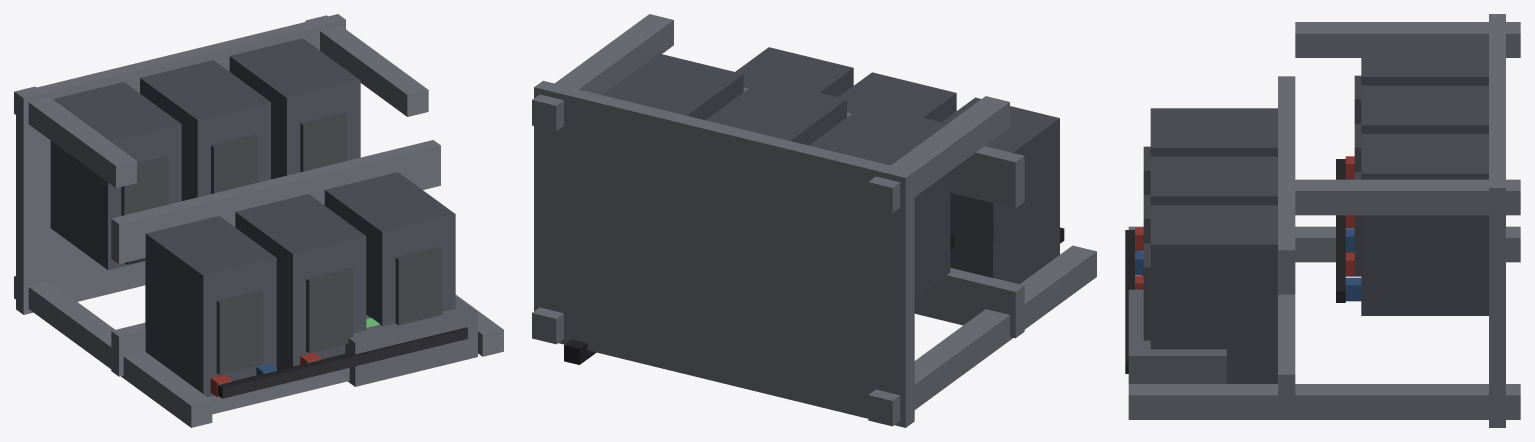
The model's file is bank_ground_standard_c6_S.obj.
The picture shows the model from 3 angles, left to right: view 1: azimuth 30°, elevation 25°; view 2: azimuth 150°, elevation 25°; view 3: azimuth 270°, elevation 25°; orthographic projection. The views are drawn at different scales.
Parts seen in each view (by area): view 1: bank_ground_standard_c6_S; view 2: bank_ground_standard_c6_S; view 3: bank_ground_standard_c6_S.
Boxes of the visible parts, <box> form: bank_ground_standard_c6_S: <box>14,14,503,427</box>; bank_ground_standard_c6_S: <box>532,14,1096,427</box>; bank_ground_standard_c6_S: <box>1125,14,1520,427</box>.
Size of the model in its own units: 0.84 by 0.56 by 0.807.
1 material, 1 textured.
